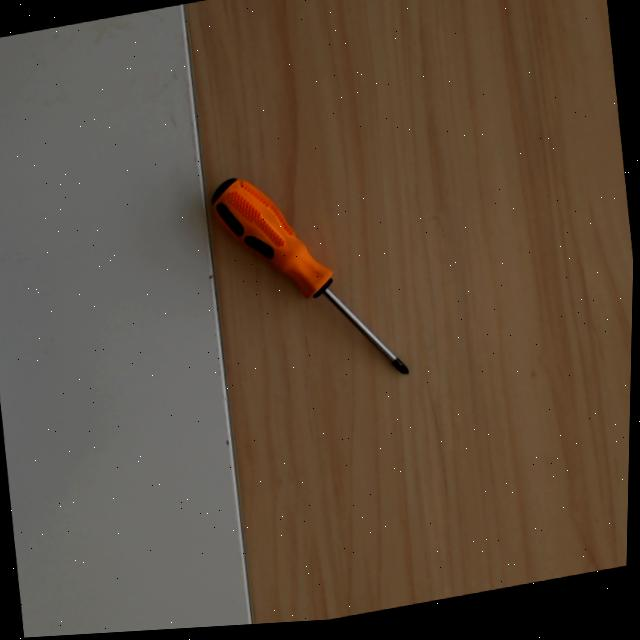Obeng-Besar: (200, 166, 413, 402)
